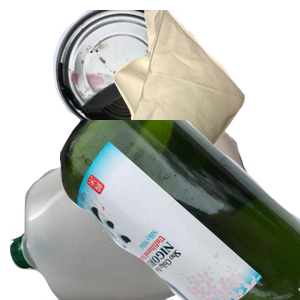glass: (60, 120, 300, 300)
metal: (50, 10, 262, 140)
plastic: (10, 120, 250, 300)
trash: (111, 10, 300, 190)
